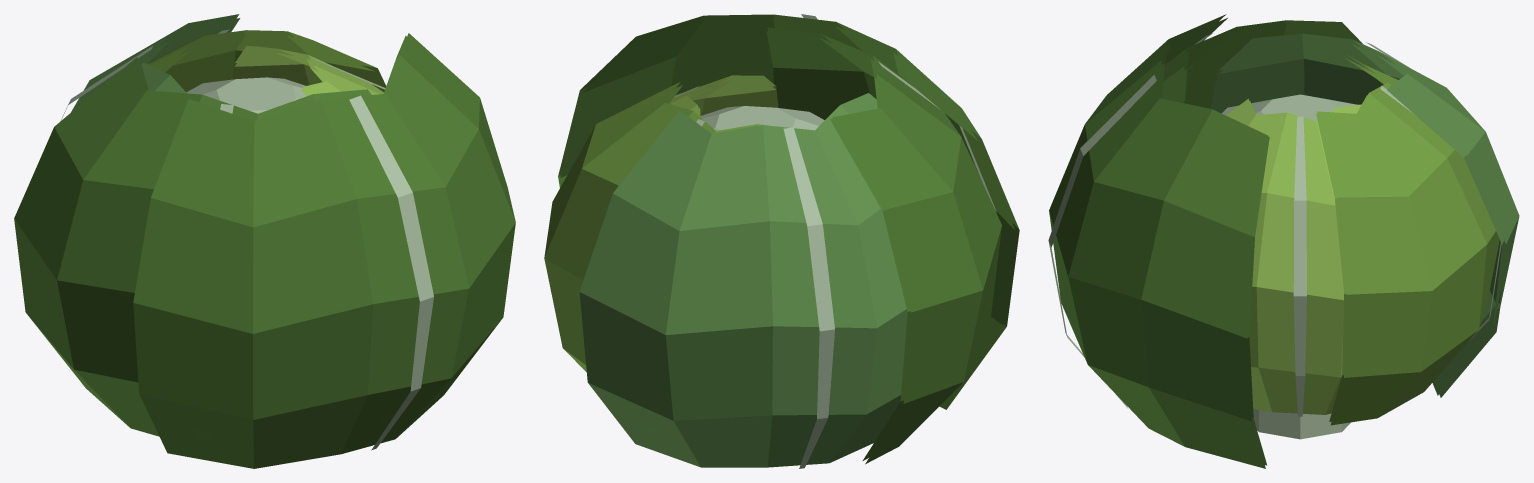
File: FD_Cabbage_01.glb
The picture shows the model from 3 angles, left to right: view 1: azimuth 30°, elevation 25°; view 2: azimuth 150°, elevation 25°; view 3: azimuth 270°, elevation 25°; orthographic projection. The views are drawn at different scales.
Parts seen in each view (by area): view 1: FD_Cabbage_01; view 2: FD_Cabbage_01; view 3: FD_Cabbage_01.
Part boxes in pixels (x1,y1,x2,y2): FD_Cabbage_01: [14, 14, 515, 468]; FD_Cabbage_01: [544, 14, 1019, 468]; FD_Cabbage_01: [1048, 14, 1519, 468].
Size of the model in its own units: 0.1812 by 0.1451 by 0.1766.
1 material, 1 textured.
